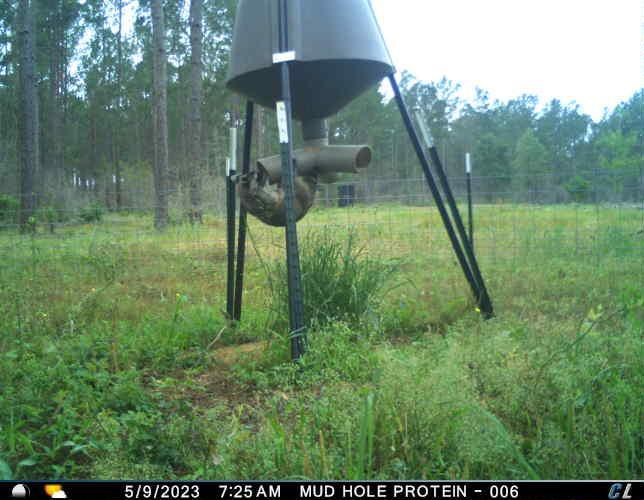Raccoon: (233, 169, 319, 226)
